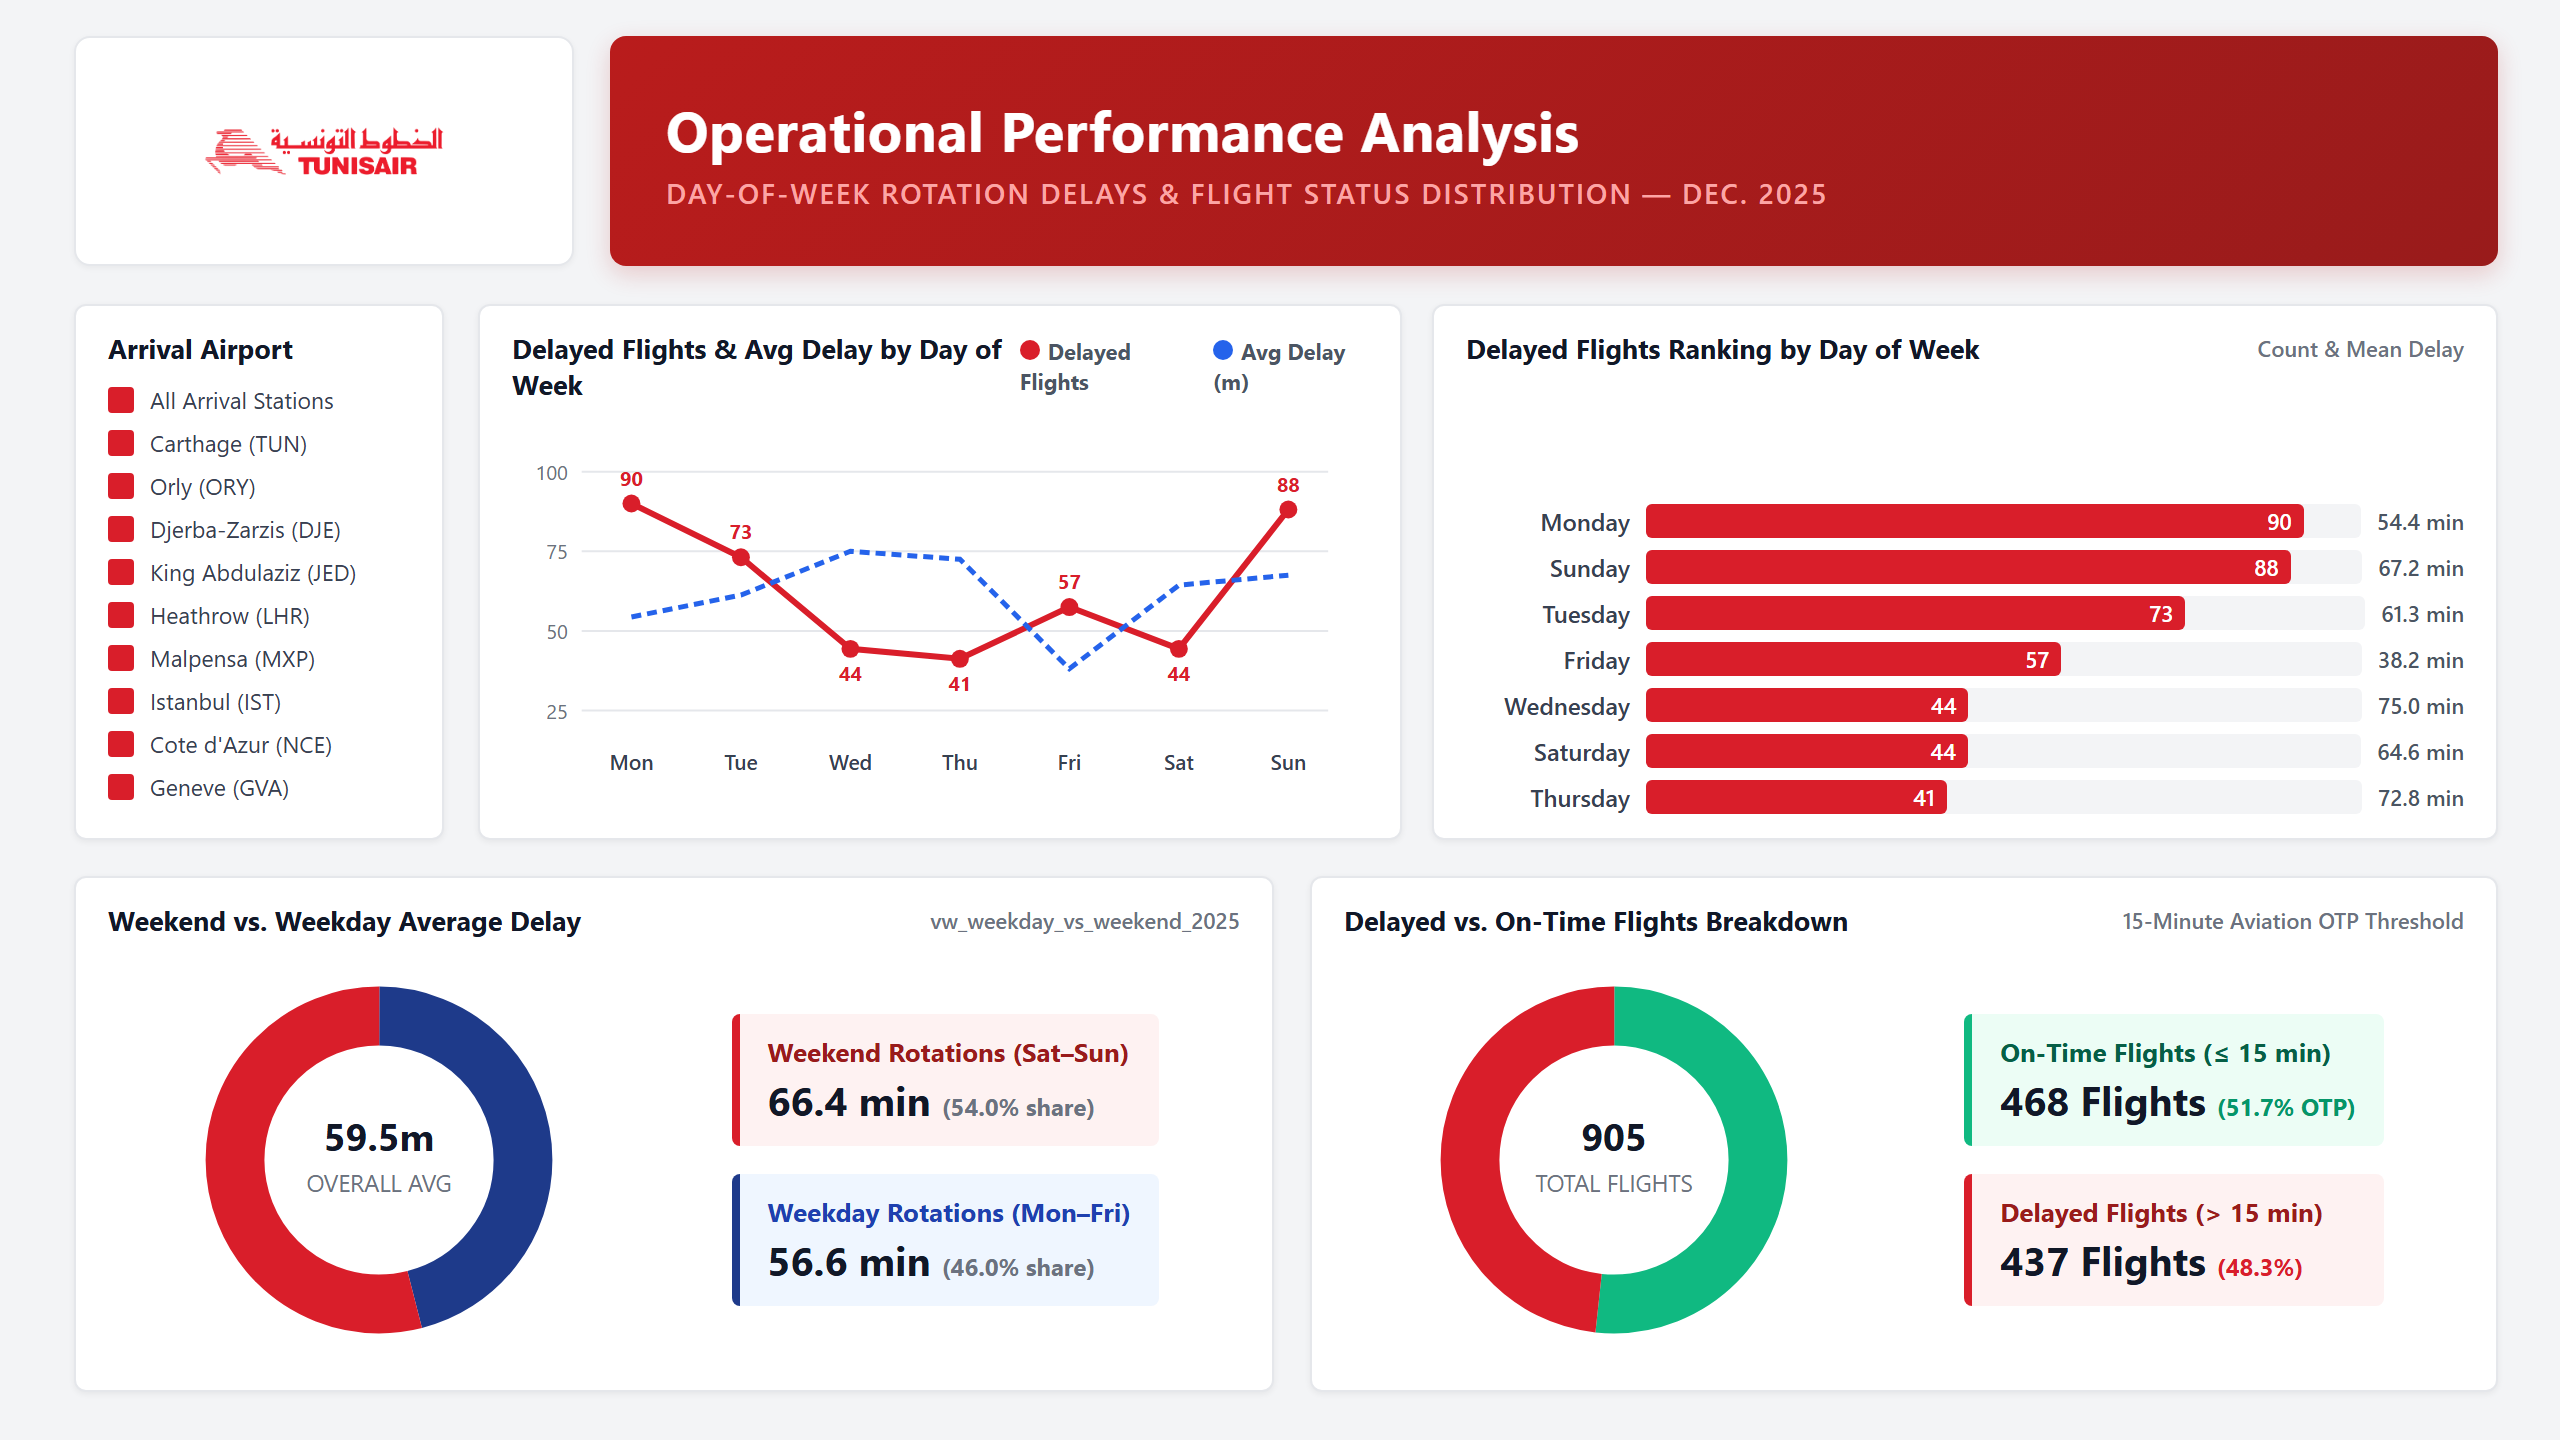

The dashboard page shown, as its layout file describes it:
{"tool":"powerbi","page":{"name":"Operational Performance Analysis(2025)","canvas":[1280,720],"ordinal":1},"visuals":[{"type":"lineChart","title":"Delayed Flights by Day of Week","fields":{"Category":["vw_flights_2025.day_name"],"Y":["vw_flights_2025.AvgTotalDelay"]},"box":[239.2,162.4,456.5,252.4],"z":0},{"type":"donutChart","title":"Delayed vs On-Time Flights","fields":{"Category":["vw_flights_2025.Delay Status"],"Y":["vw_flights_2025.FlightCount"]},"box":[700.2,441.2,548.7,261.2],"z":1000},{"type":"barChart","title":"Delayed Flights by Day of Week","fields":{"Category":["vw_flights_2025.day_name"],"Y":["vw_flights_2025.DelayedFlightsCount"]},"box":[715.7,161.9,533.3,252.2],"z":2000},{"type":"donutChart","title":"Weekend vs Weekday Average Delay","fields":{"Category":["vw_weekday_vs_weekend_2025.Weekend"],"Y":["Sum(vw_weekday_vs_weekend_2025.avg_delay)"]},"box":[37.3,441.2,658.5,261.2],"z":3000},{"type":"slicer","fields":{"Values":["vw_flights_2025.arrival_airport"]},"box":[37.5,173.8,167,240.3],"z":4000},{"type":"textbox","box":[359.5,22.2,603.2,88.6],"z":5000},{"type":"image","box":[37.5,8.5,247.1,102.2],"z":6000},{"type":"textbox","box":[582.8,88.6,192.5,44.3],"z":7000}]}

Visuals, with their boxes in screenshot pixels (x1, y1, x2, y2), scaled from the page's 1280x720 canvas onto the 2560x1440 screenshot:
"Delayed Flights by Day of Week" lineChart: [478,325,1391,830]
"Delayed vs On-Time Flights" donutChart: [1400,882,2498,1405]
"Delayed Flights by Day of Week" barChart: [1431,324,2498,828]
"Weekend vs Weekday Average Delay" donutChart: [75,882,1392,1405]
slicer - vw_flights_2025.arrival_airport: [75,348,409,828]
textbox: [719,44,1925,222]
image: [75,17,569,221]
textbox: [1166,177,1551,266]
